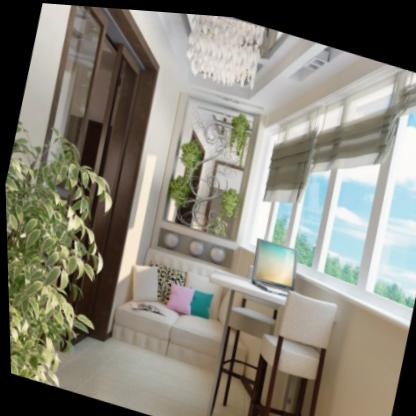Door: (59, 44, 142, 342)
Window: (318, 82, 395, 283), (360, 73, 416, 301), (289, 99, 345, 264), (264, 191, 290, 244)
